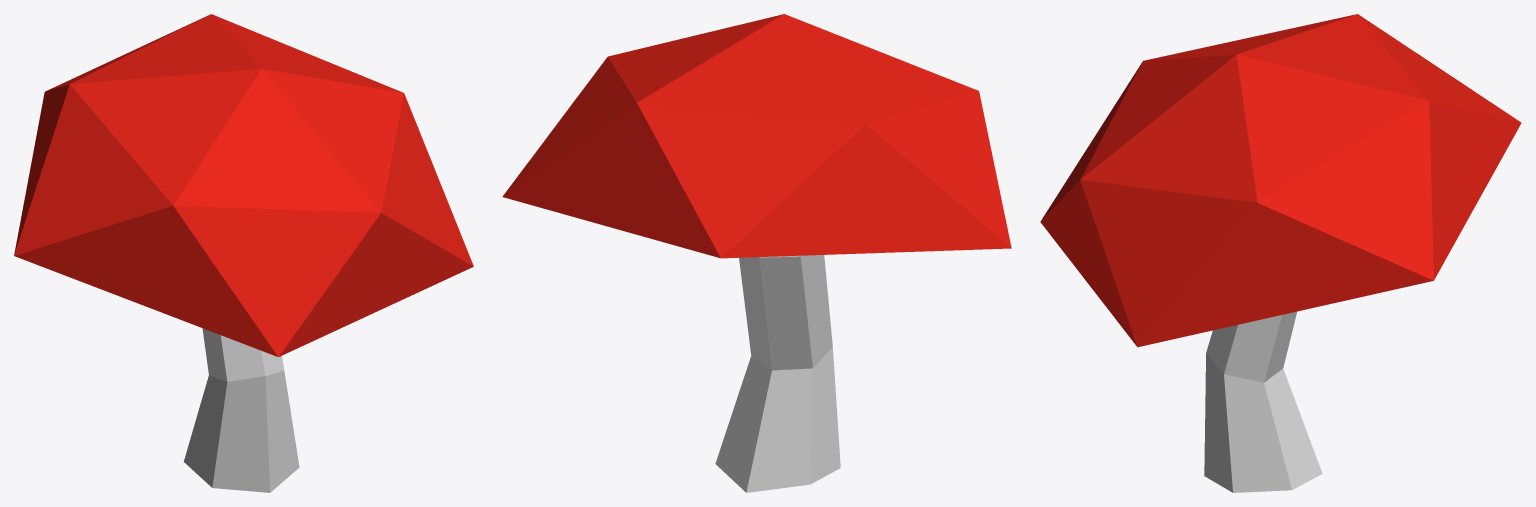
File: mushroom2.glb
3 renders of one model, left to right at view 1: azimuth 30°, elevation 25°; view 2: azimuth 150°, elevation 25°; view 3: azimuth 270°, elevation 25°, orthographic. The views are drawn at different scales.
Visible parts, largest first — view 1: mushroom2; view 2: mushroom2; view 3: mushroom2.
Part boxes in pixels (x1,y1,x2,y2): mushroom2: [14, 14, 473, 492]; mushroom2: [502, 14, 1011, 492]; mushroom2: [1040, 14, 1521, 492].
Size of the model in its own units: 0.5342 by 0.5344 by 0.5485.
